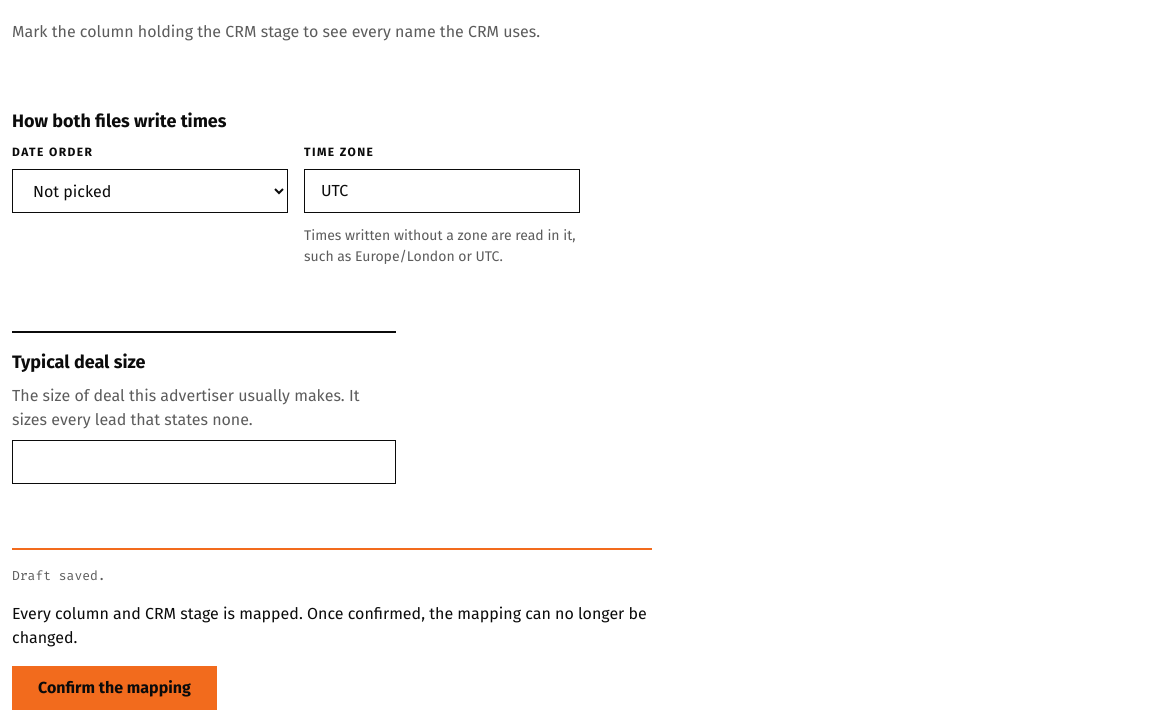
Test: ReviewStep › shows the summary of what was formatted, exactly as the service returns it
(page scrolled)
Click the button "Confirm the mapping": (114, 688) [12,666,217,709]
(page scrolled)
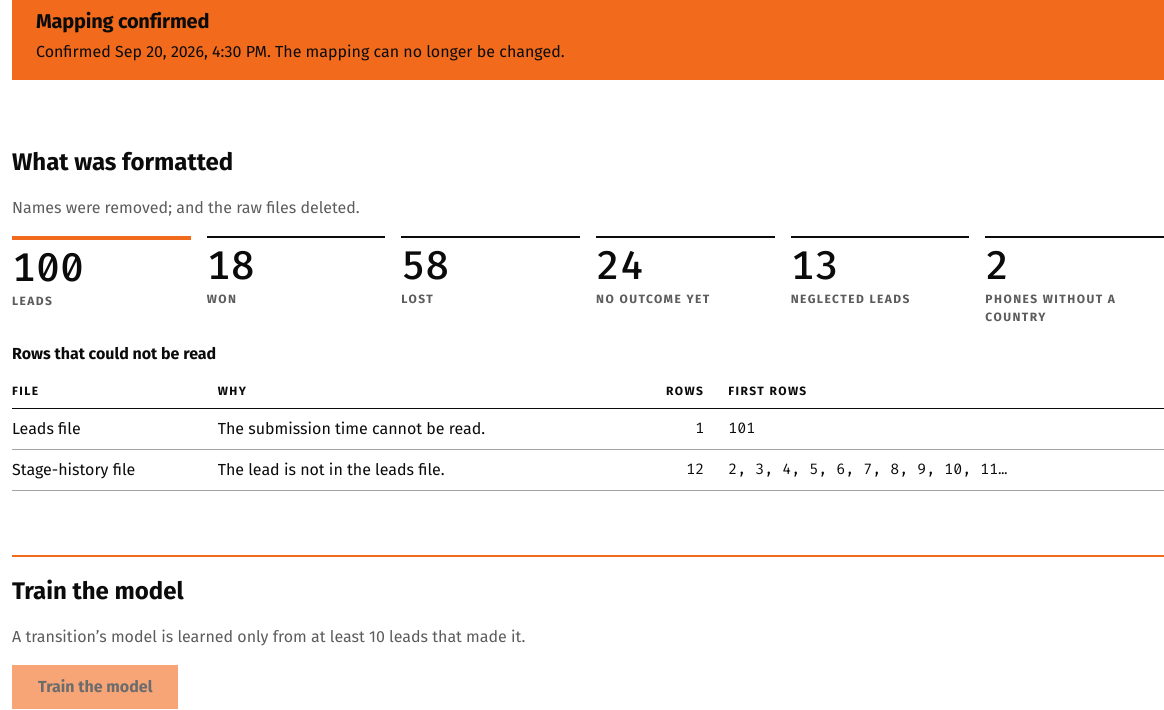
Expected: the list items read "100Leads", "18Won", "58Lost", "24No outcome yet", "13Neglected leads", "2Phones without a country", in this order, [12,236,191,326]; [207,236,385,326]; [401,236,580,326]; [596,236,775,326]; [791,236,969,326]; [985,236,1163,326]
Expected: the text "Names were removed; and the raw files deleted." is shown, [12,198,360,217]
